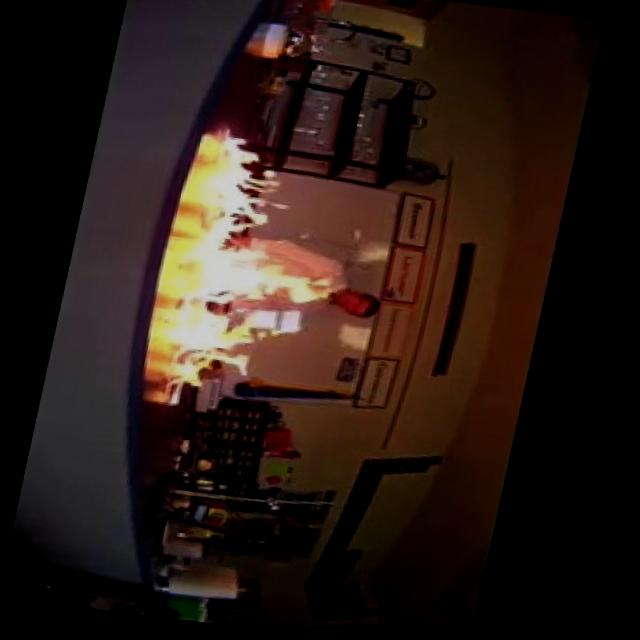helmet: (166, 115, 377, 417)
